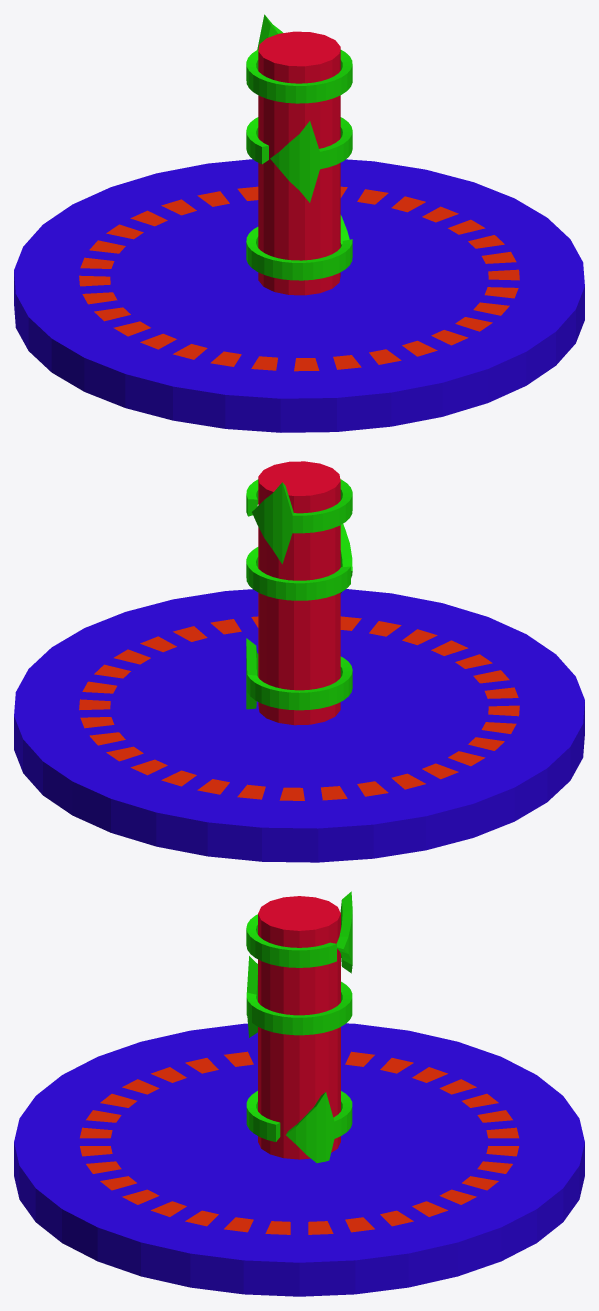
Rendered from Turntable 1.fbx.
3 renders of one model, top to bottom at view 1: azimuth 30°, elevation 25°; view 2: azimuth 150°, elevation 25°; view 3: azimuth 270°, elevation 25°, orthographic.
Visible parts, largest first — view 1: Circle; view 2: Circle; view 3: Circle.
Part boxes in pixels (bbox=[...]): Circle: bbox=[14, 14, 584, 432]; Circle: bbox=[14, 461, 584, 862]; Circle: bbox=[14, 891, 584, 1296].
Size of the model in its own units: 200 by 108 by 200.
